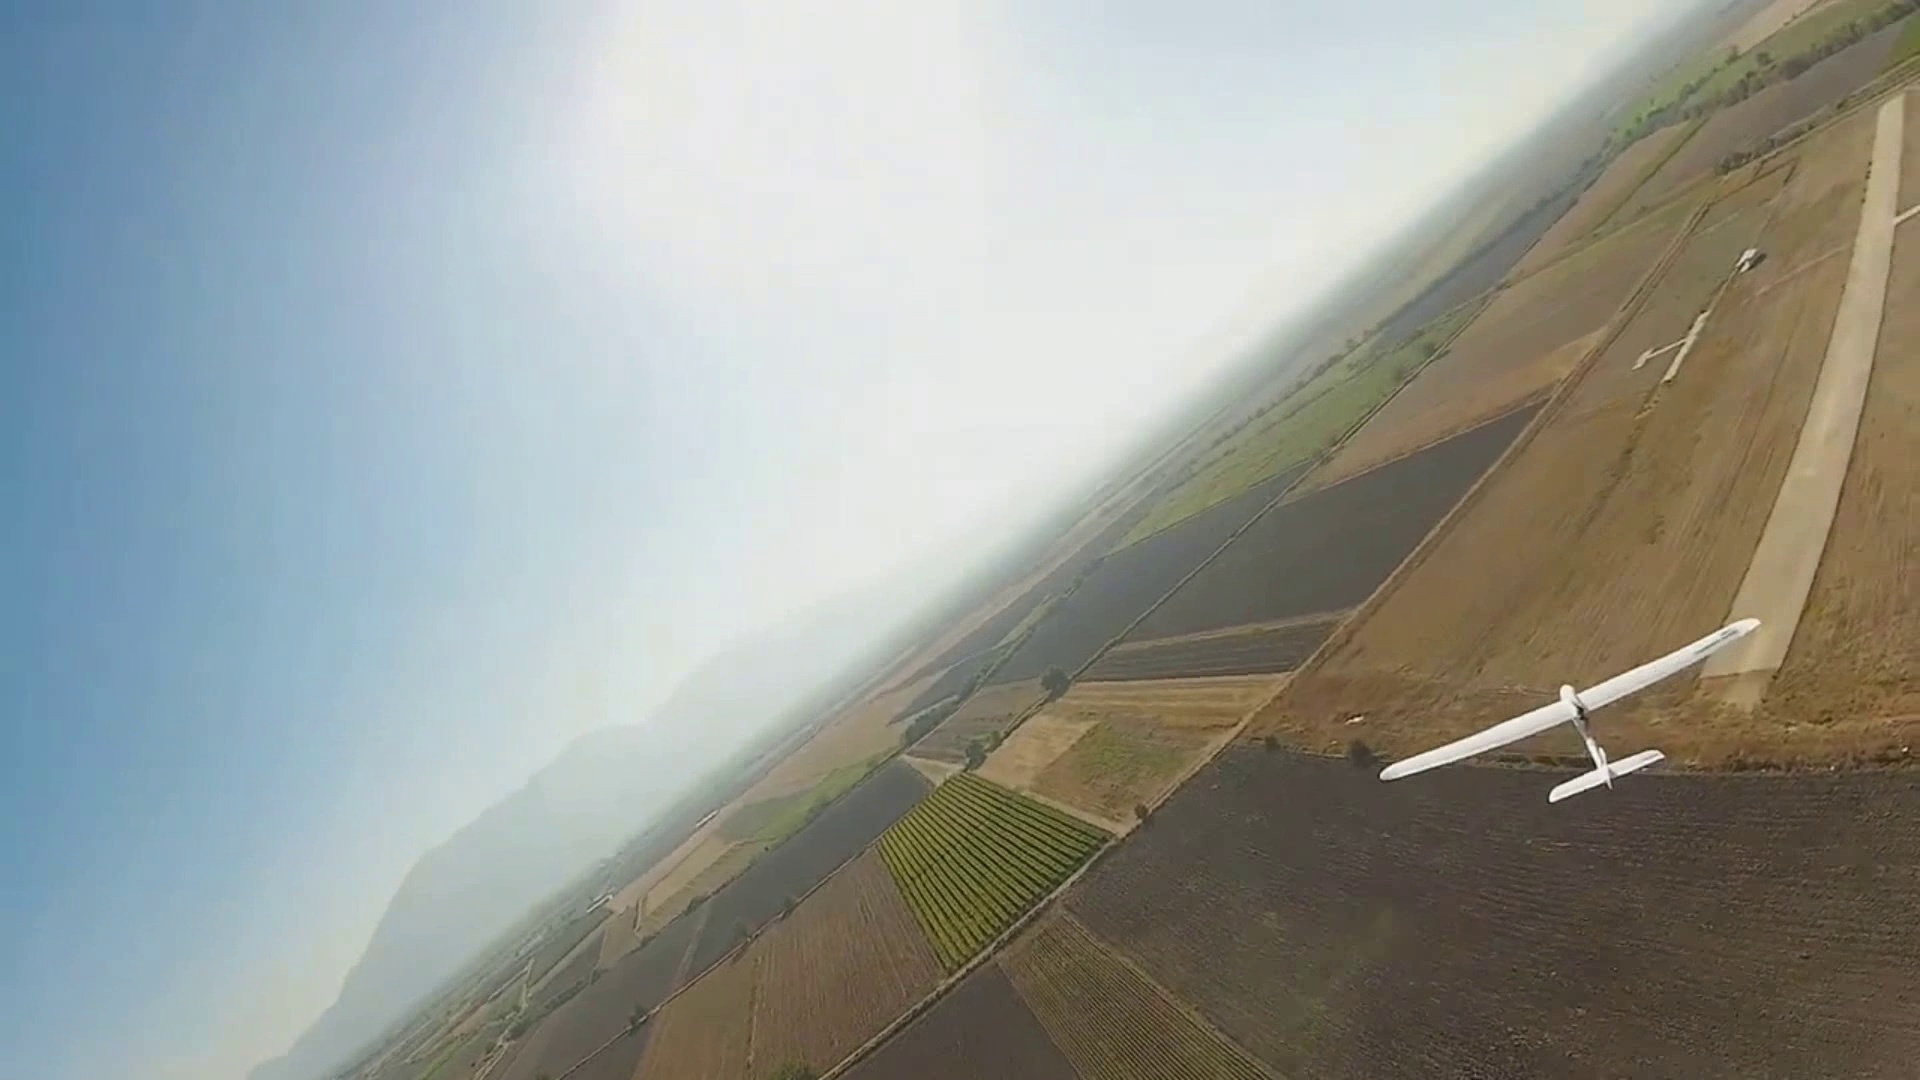airplane: (1378, 612, 1764, 802)
